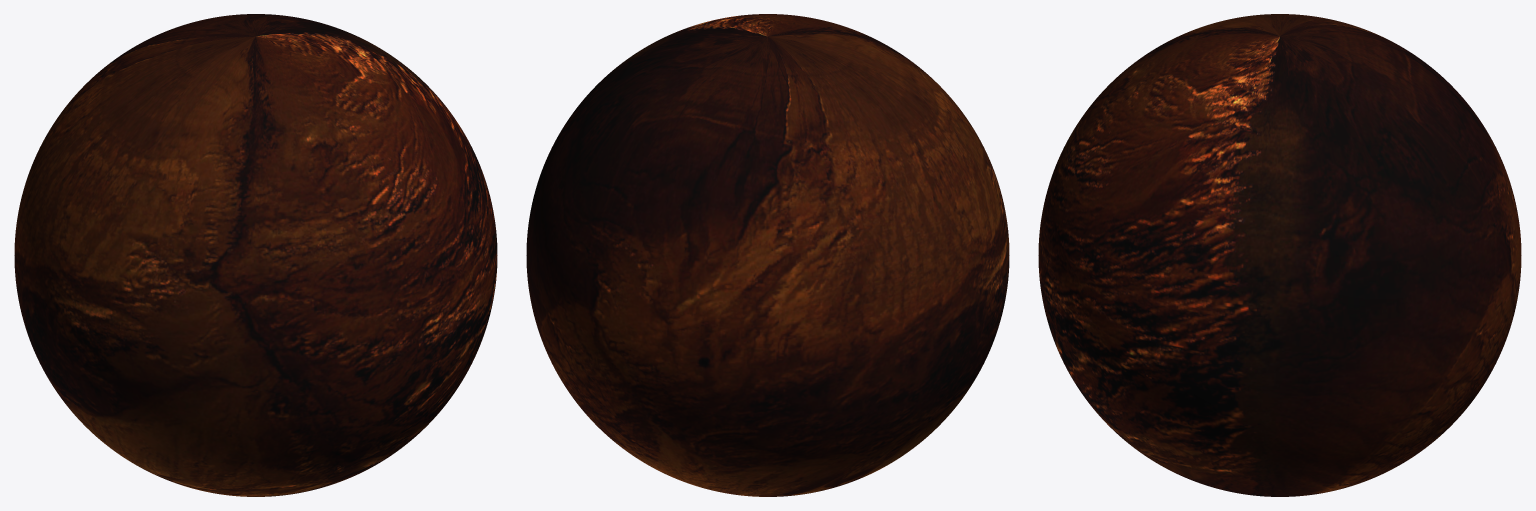
File: corot_7c_hot_earth.glb
The picture shows the model from 3 angles, left to right: view 1: azimuth 30°, elevation 25°; view 2: azimuth 150°, elevation 25°; view 3: azimuth 270°, elevation 25°; orthographic projection.
Visible parts, largest first — view 1: Esfera; view 2: Esfera; view 3: Esfera.
Boxes of the visible parts, x1,y1,x2,y2 form: Esfera: (14,14,497,496); Esfera: (526,14,1009,496); Esfera: (1038,14,1521,496).
Size of the model in its own units: 2000 by 2000 by 2000.
Materials: 1 (1 with a texture image).
